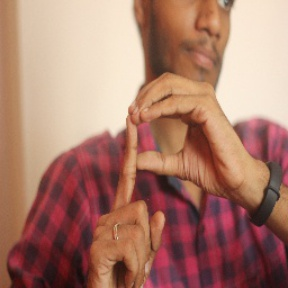P: (84, 74, 239, 277)
